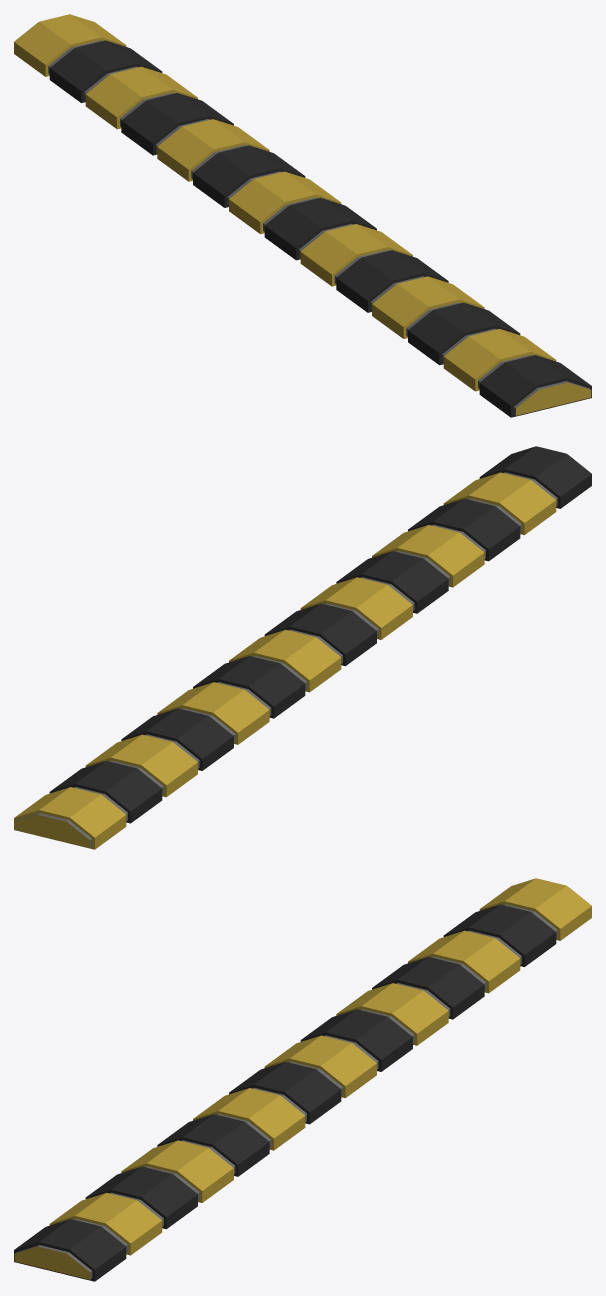
Rendered from Speed Bumps.fbx.
3 views of the same model, one above another, from view 1: azimuth 30°, elevation 25°; view 2: azimuth 150°, elevation 25°; view 3: azimuth 330°, elevation 25° (orthographic).
Parts seen in each view (by area): view 1: Speed Bumps; view 2: Speed Bumps; view 3: Speed Bumps.
Boxes of the visible parts, x1,y1,x2,y2 form: Speed Bumps: (14,14,591,417); Speed Bumps: (14,446,591,849); Speed Bumps: (14,878,591,1281).
Size of the model in its own units: 0.3839 by 4.12 by 0.1184.
